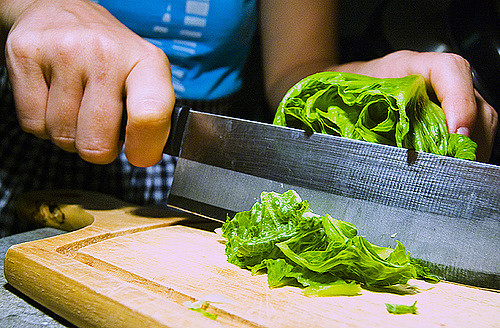chopped lettuce: (222, 192, 402, 290), (287, 71, 431, 142)
